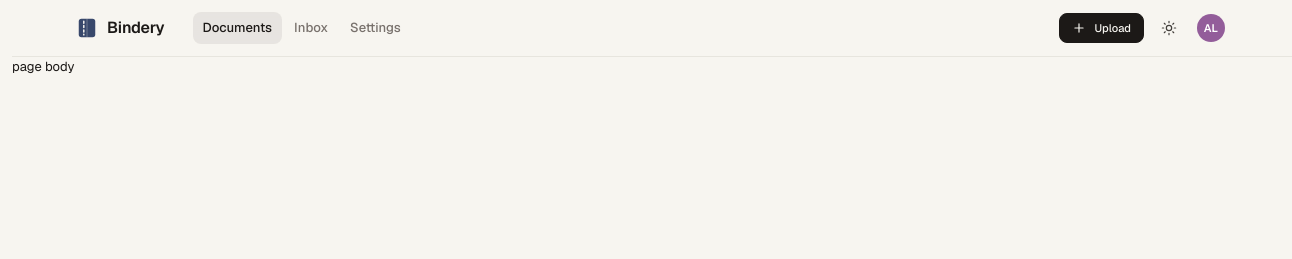
Test case: App frame › closes the account menu on Escape
The width and height of the screenshot is (1292, 259).
Click the button with aria-label "Account" at (1211, 28), box left=1194, top=11, right=1228, bottom=45
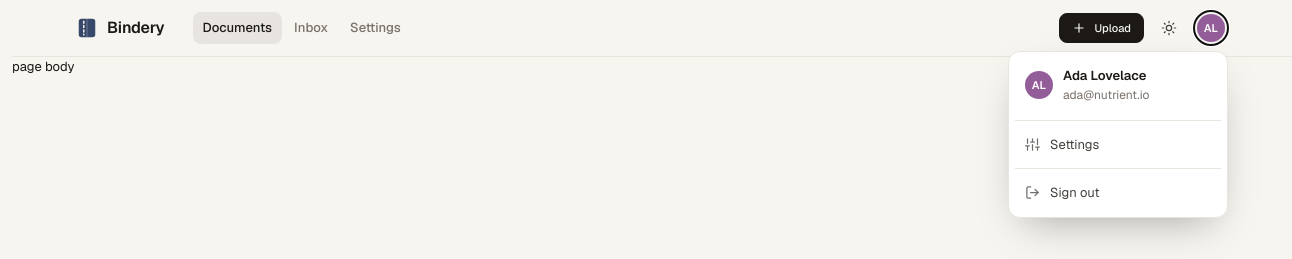
Press Escape
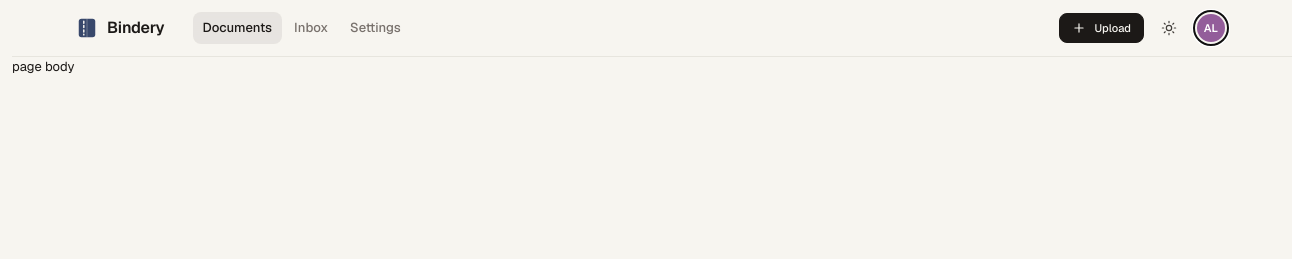
Expected: the menu is gone
